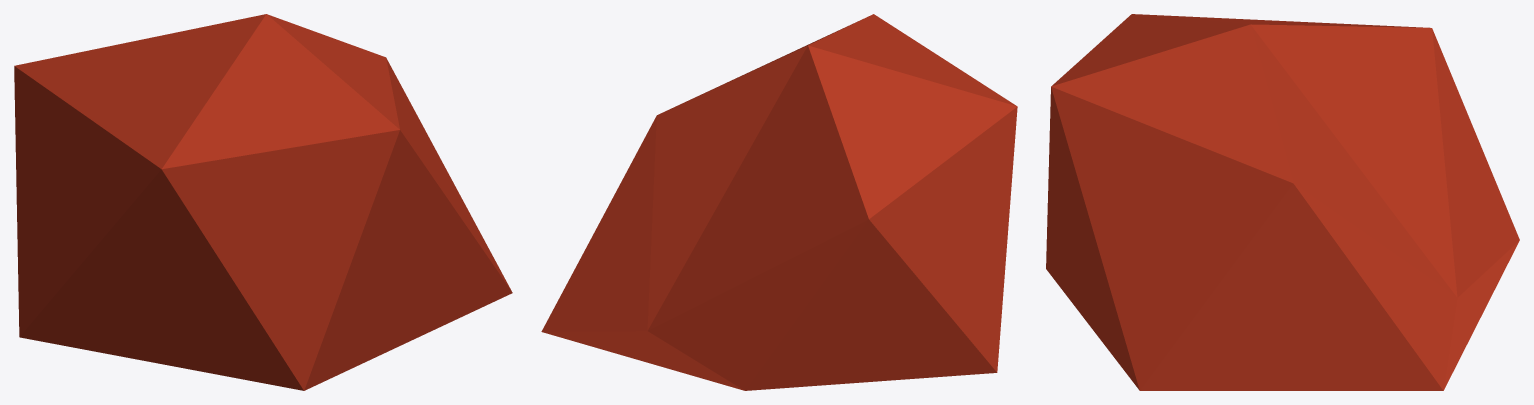
The model's file is M_R_Stone3.FBX.
3 views of the same model, side by side, from view 1: azimuth 30°, elevation 25°; view 2: azimuth 150°, elevation 25°; view 3: azimuth 270°, elevation 25° (orthographic). The views are drawn at different scales.
Parts seen in each view (by area): view 1: GeoSphere062; view 2: GeoSphere062; view 3: GeoSphere062.
Part boxes in pixels (x1,y1,x2,y2): GeoSphere062: [14, 14, 512, 390]; GeoSphere062: [541, 14, 1017, 390]; GeoSphere062: [1046, 14, 1519, 390].
Size of the model in its own units: 107 by 72.63 by 109.
